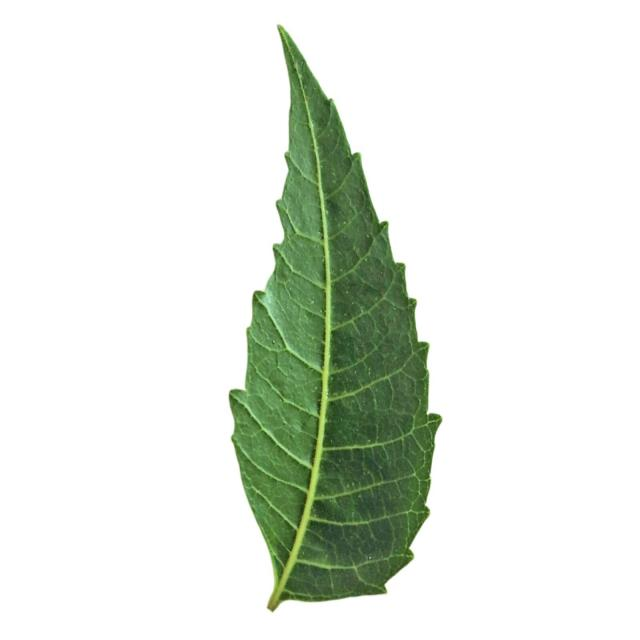Medicinal-Neem: (230, 26, 441, 612)
